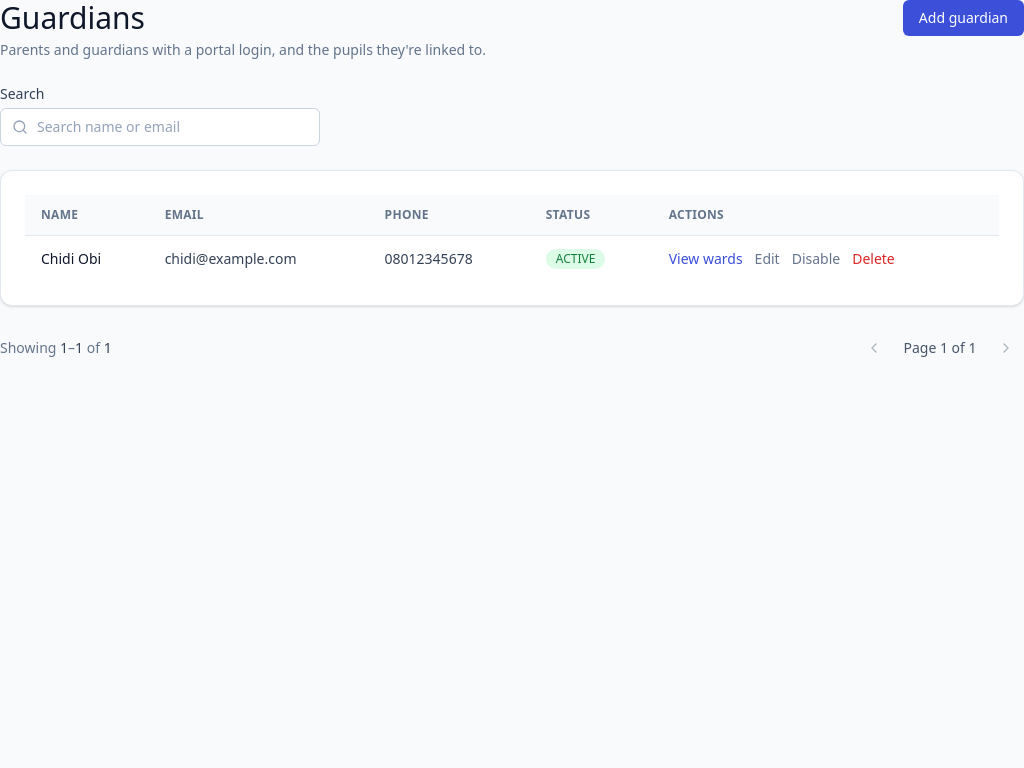
Scenario: GuardiansPage › shows a guardian's wards, linked to their student profile
The image size is (1024, 768).
Expected: the text "Chidi Obi" is shown, [25,236,149,281]
Click the button "View wards".
click(706, 258)  # box [669,248,743,268]
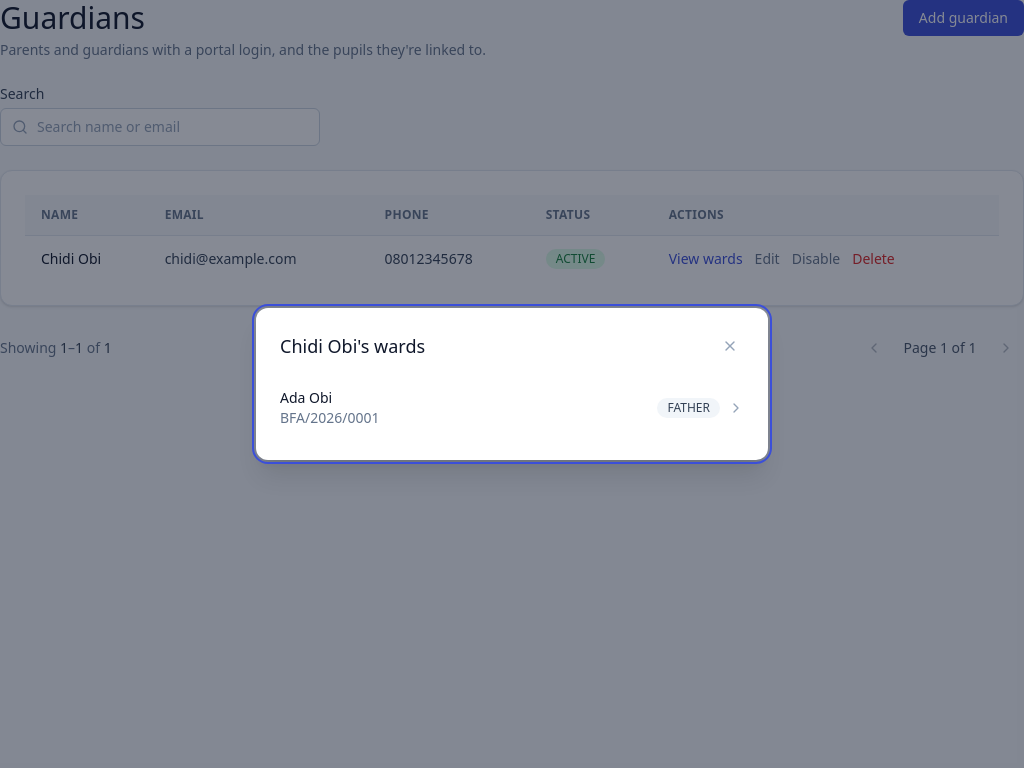
Expected: the text "Ada Obi" is shown, [280,388,332,407]
Expected: the text "BFA/2026/0001" is shown, [280,408,380,428]
